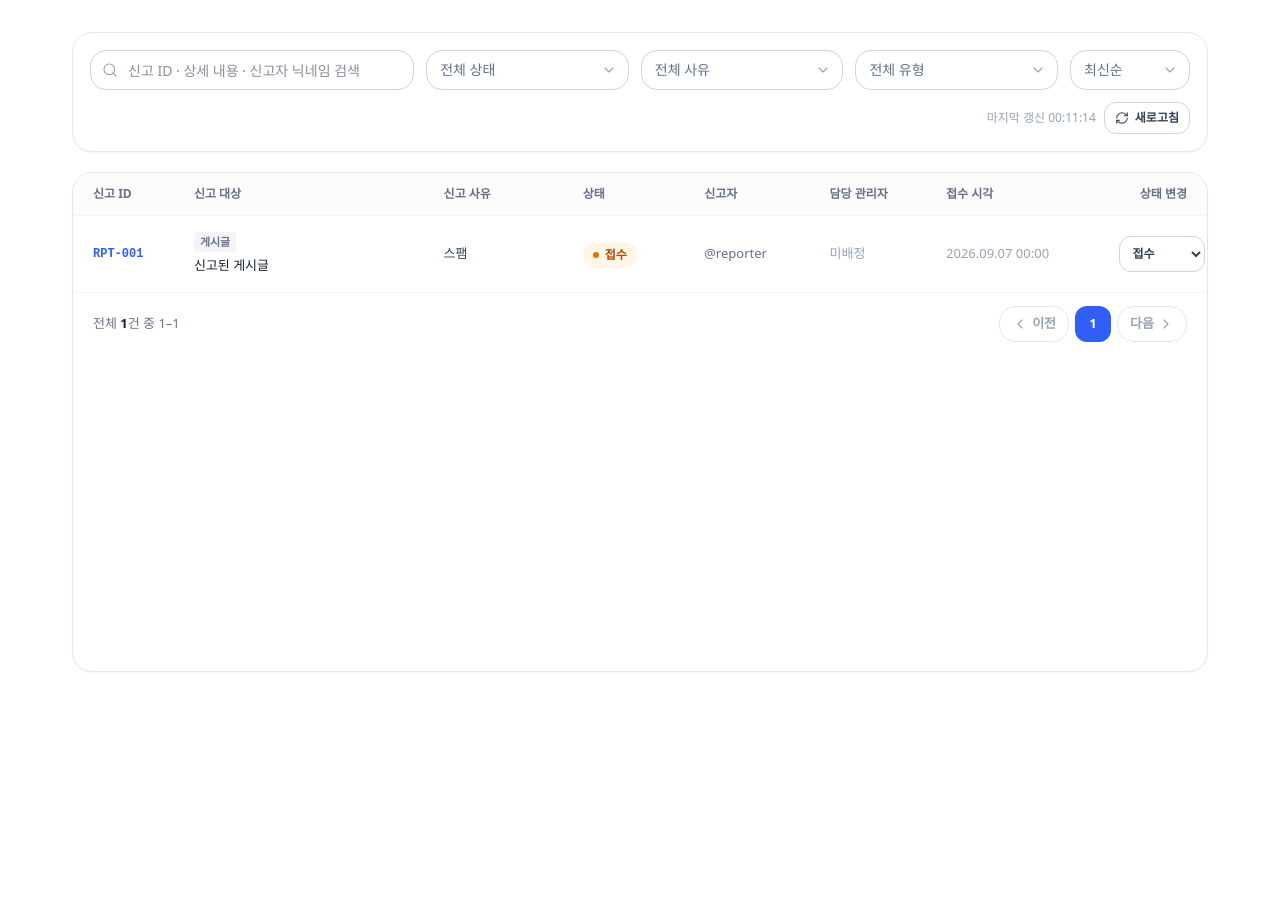
Scenario: AdminReportsManagement › cannot unlock a committed row with a GET that started before the PATCH succeeded
The width and height of the screenshot is (1280, 900).
Expected: the link "RPT-001" is shown, left=93, top=247, right=143, bottom=261
Click the button "새로고침" at {"x": 1147, "y": 118}, box left=1104, top=102, right=1190, bottom=134
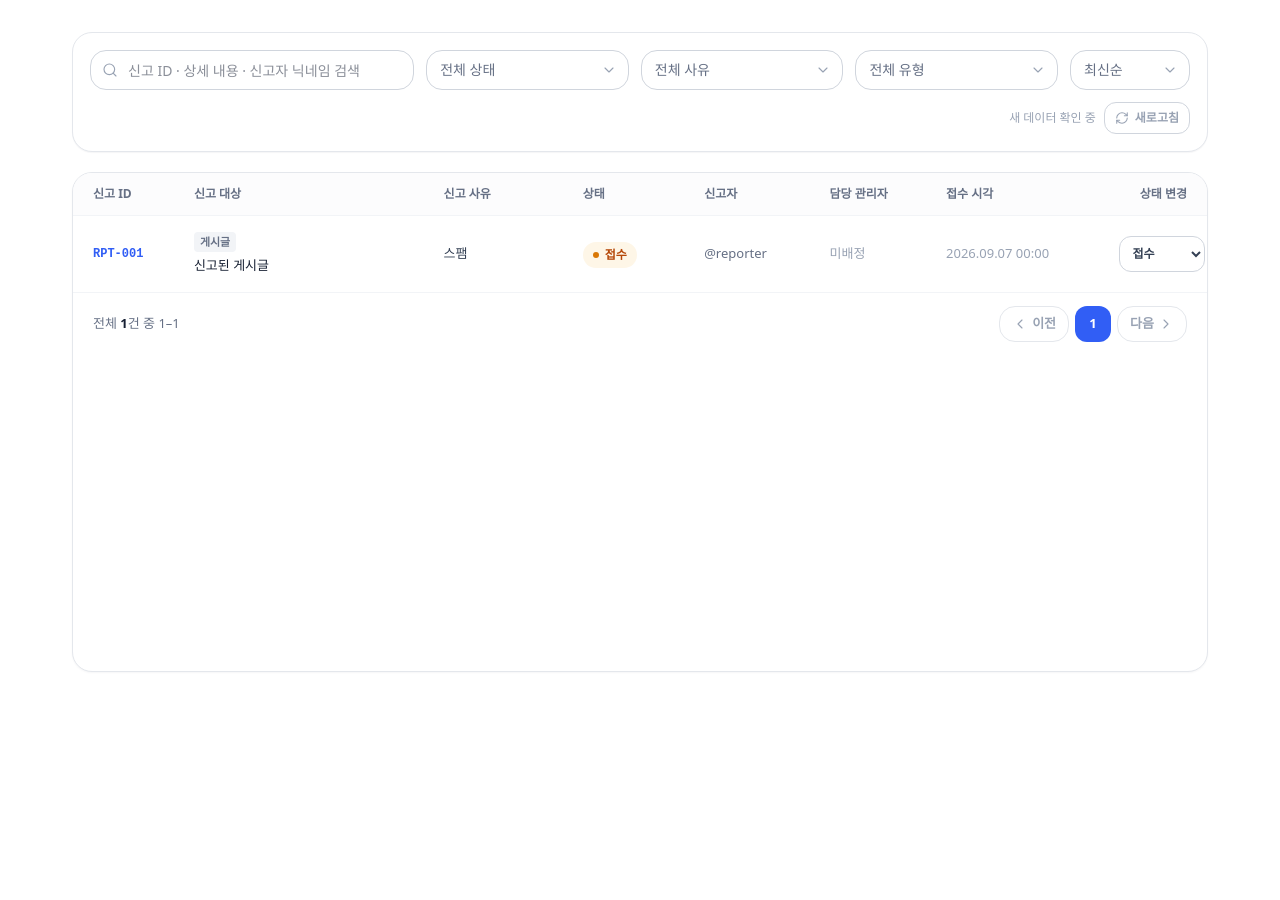
Select "처리 완료" in the dropdown named "RPT-001 상태 변경" at {"x": 1162, "y": 254}, box left=1119, top=236, right=1205, bottom=272
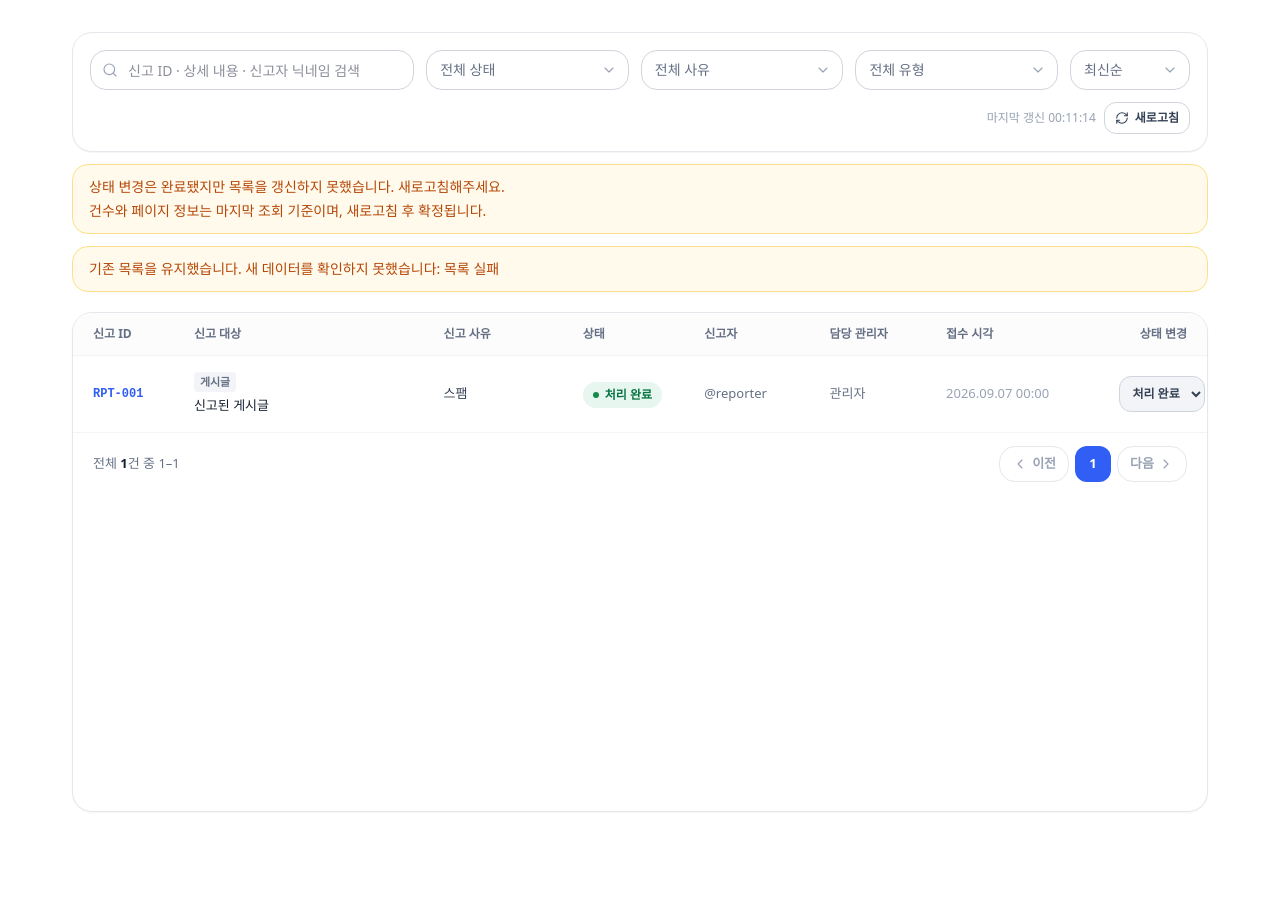
Result: the text "상태 변경은 완료됐지만 목록을 갱신하지 못했습니다. 새로고침해주세요." is shown at left=89, top=177, right=505, bottom=196
